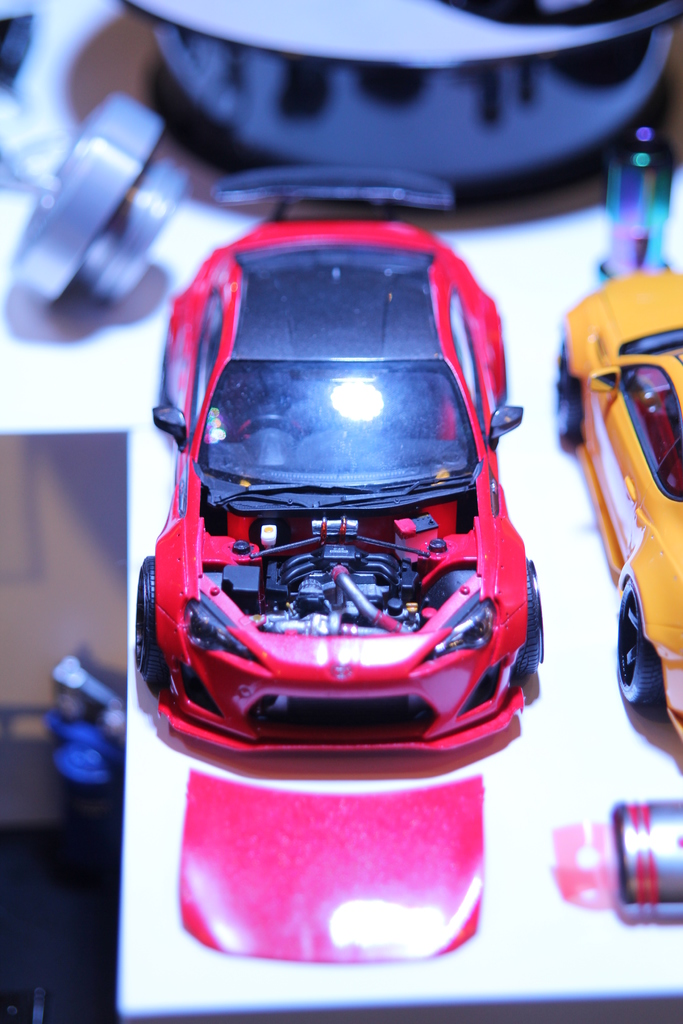mobil: (111, 191, 568, 781)
